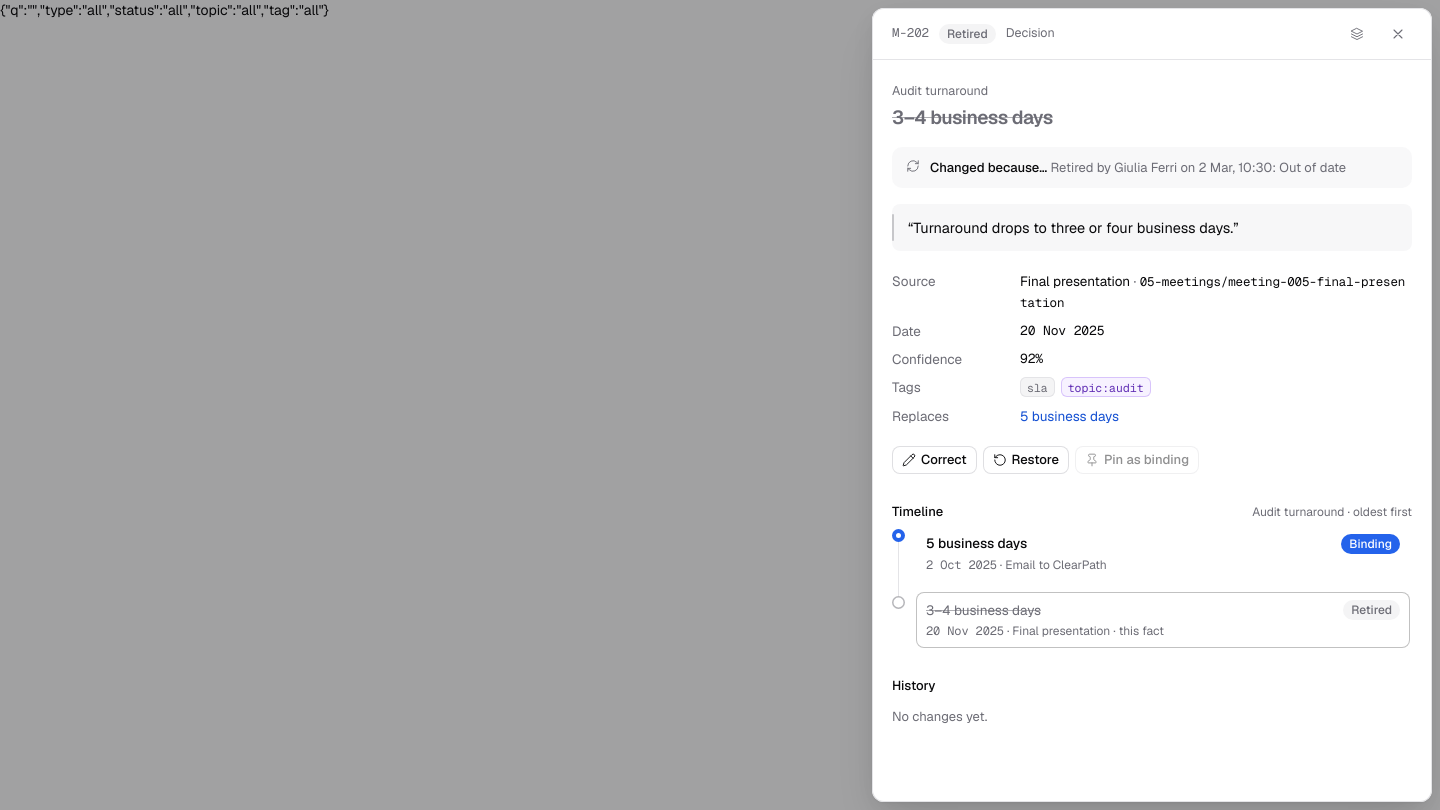
Test: FactDrawer › actions on offer › offers Restore instead of Retire on a retired fact, and explains why it cannot be pinned
Expected: the button "Restore" is shown, [983,446,1069,474]
Click the button "Pin as binding". click: (1137,460)
box: [1075,446,1199,474]
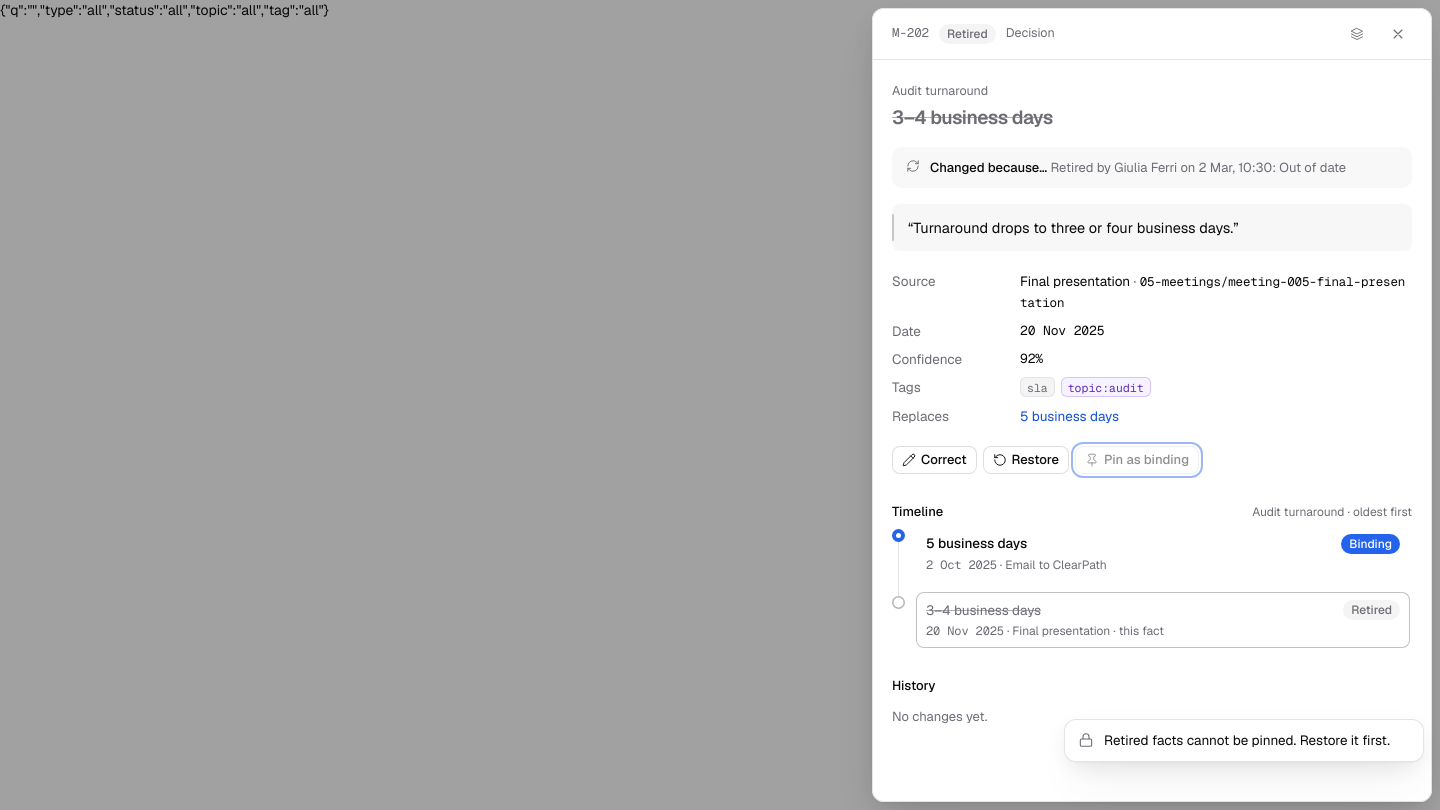
Expected: the text "Retired facts cannot be pinned. Restore it first." is shown, [1104,731,1410,750]
